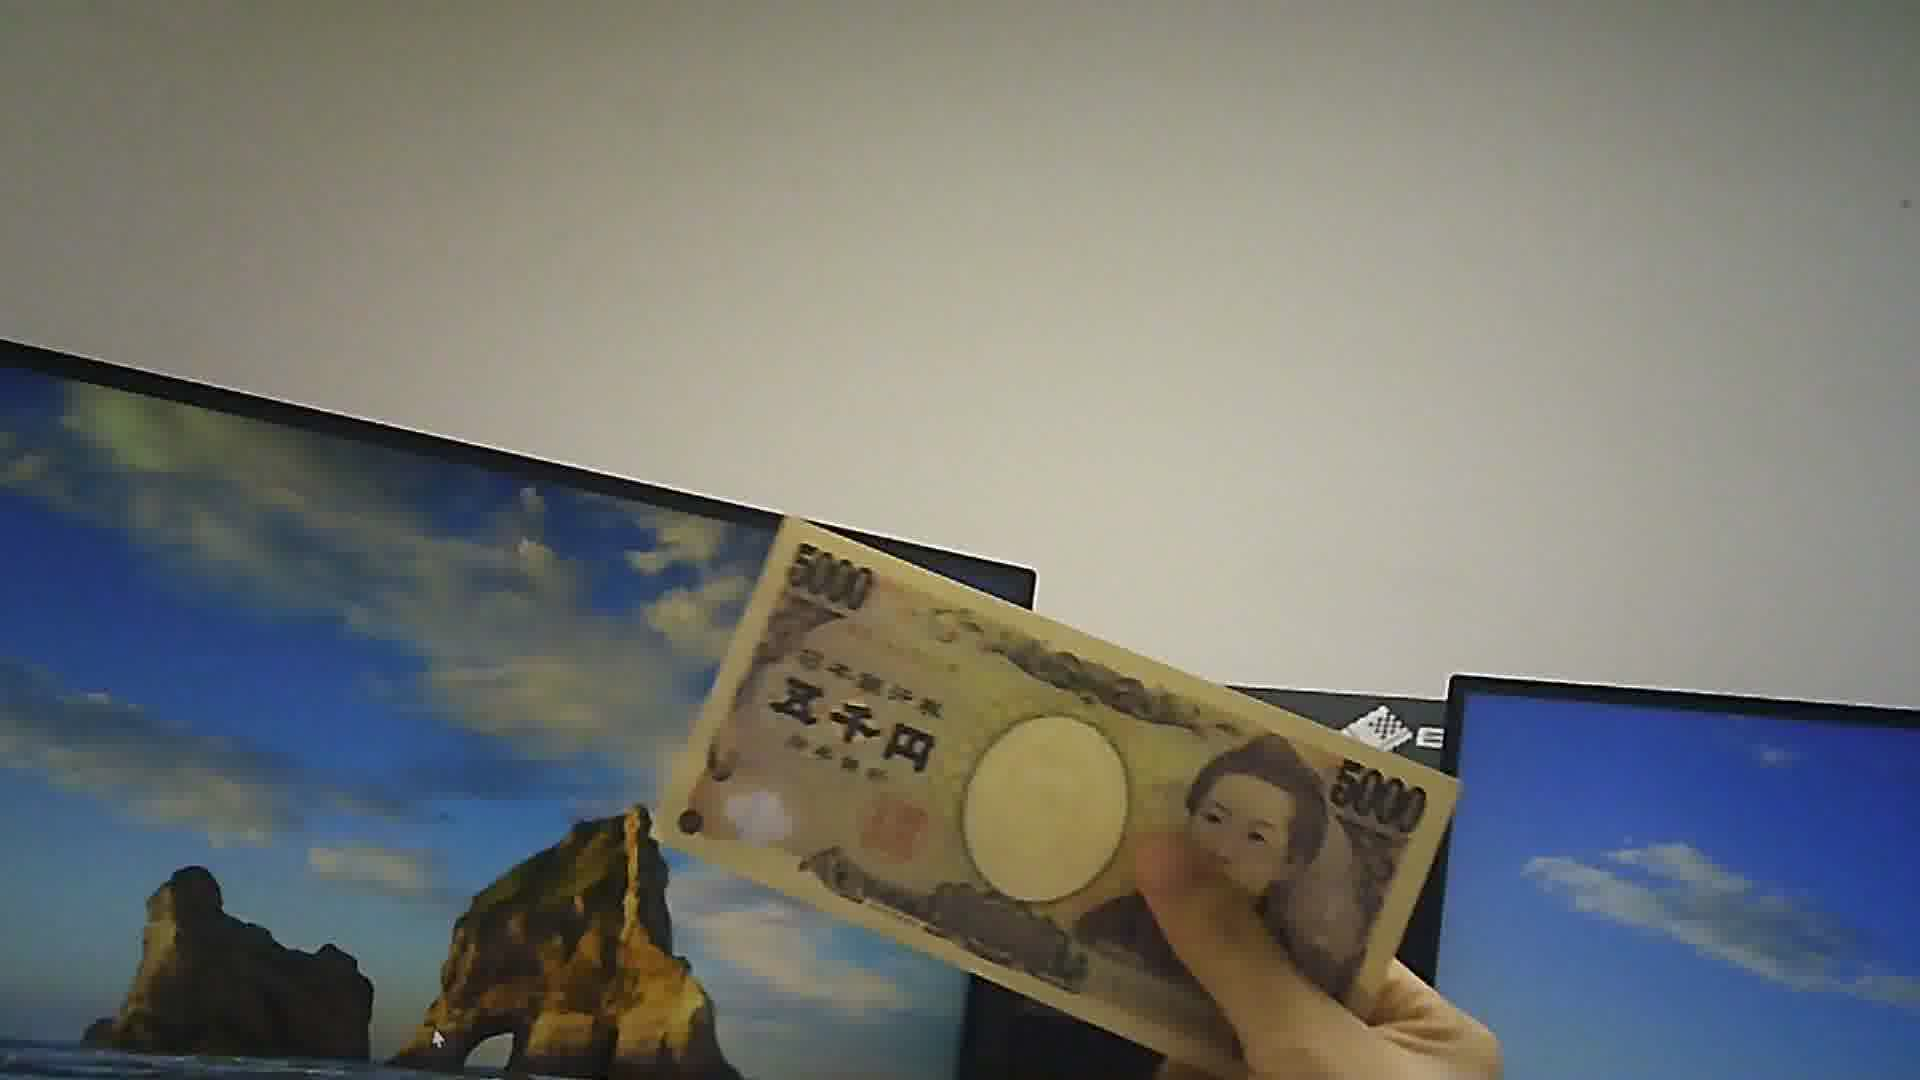5,000 Yen: (663, 501, 1424, 1060)
